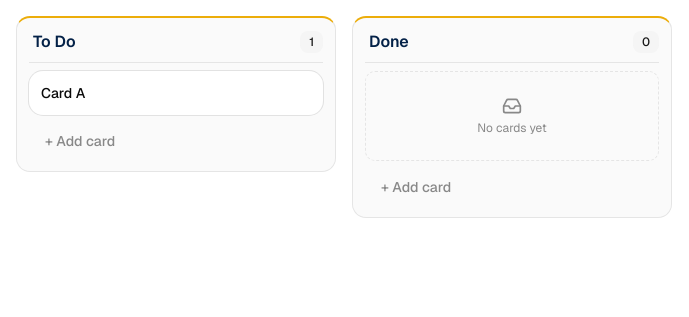
Scenario: edits a card
The width and height of the screenshot is (689, 317).
Click the text "Card A".
click(63, 93)  # box [41,84,85,102]
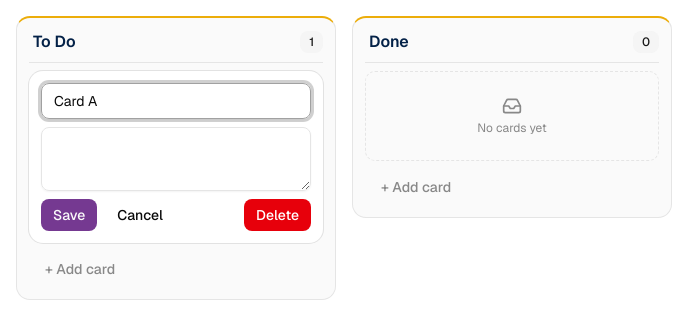
Replace the text in the field named "Card title" with "Card A2" at (176, 101), box [41,83,311,119]
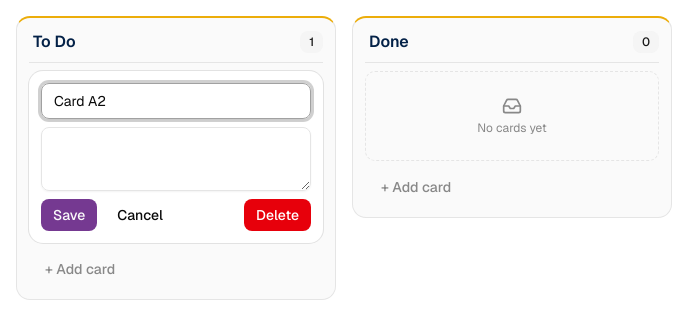
Type "details" into the text box named "Card description".
click(176, 159); type("details")  # box [41,127,311,191]
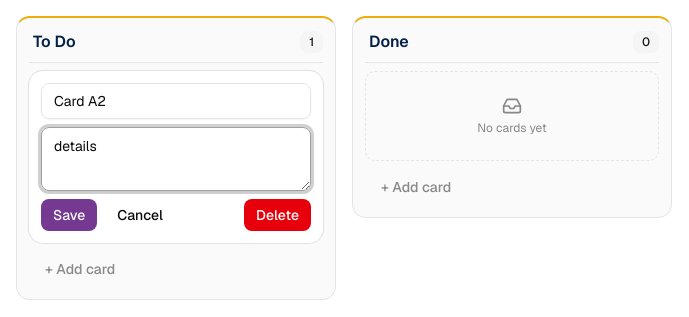
Click the button "Save".
click(69, 215)  # box [41,199,97,231]
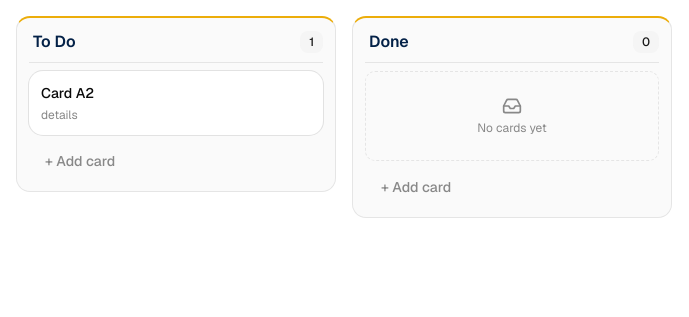
Check: the text "Card A2" is shown, box [41,84,94,102]
Check: the text "details" is shown, box [41,107,78,123]
